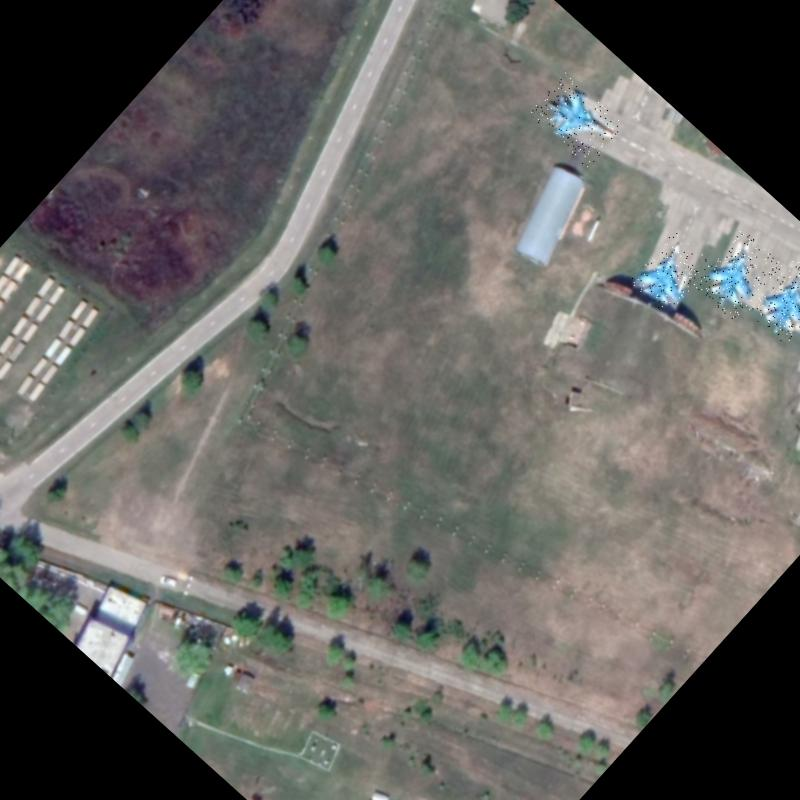A19: (527, 72, 625, 169), (692, 228, 782, 321), (628, 229, 714, 317), (745, 256, 800, 346)
